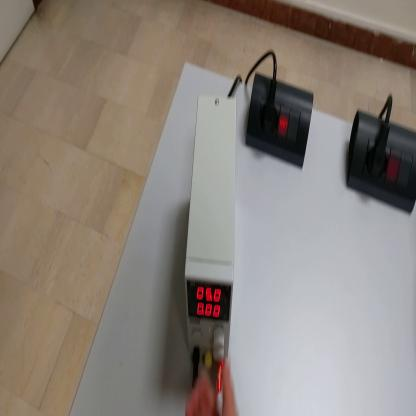hand: (179, 358, 241, 415)
power supply: (185, 90, 238, 364)
socket: (243, 71, 317, 172), (349, 112, 416, 215)
